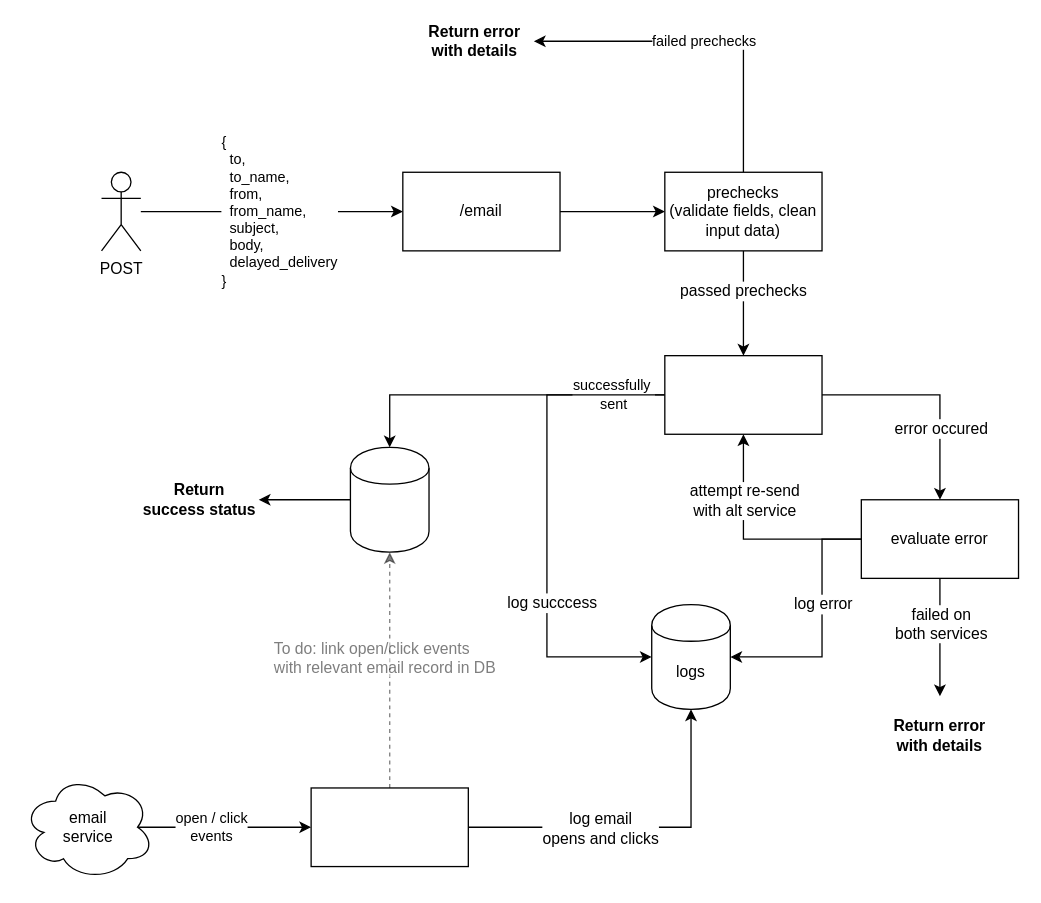
Image size: 1041x903. Some labels were removed from this diagram. Here are the shapes that lost their labels. From the top down, the box of each, then its label:
(664, 354, 822, 434): create email and send via HTTP (or schedule send)
(349, 446, 429, 552): sent emails DB
(310, 787, 468, 867): /xWebhook
